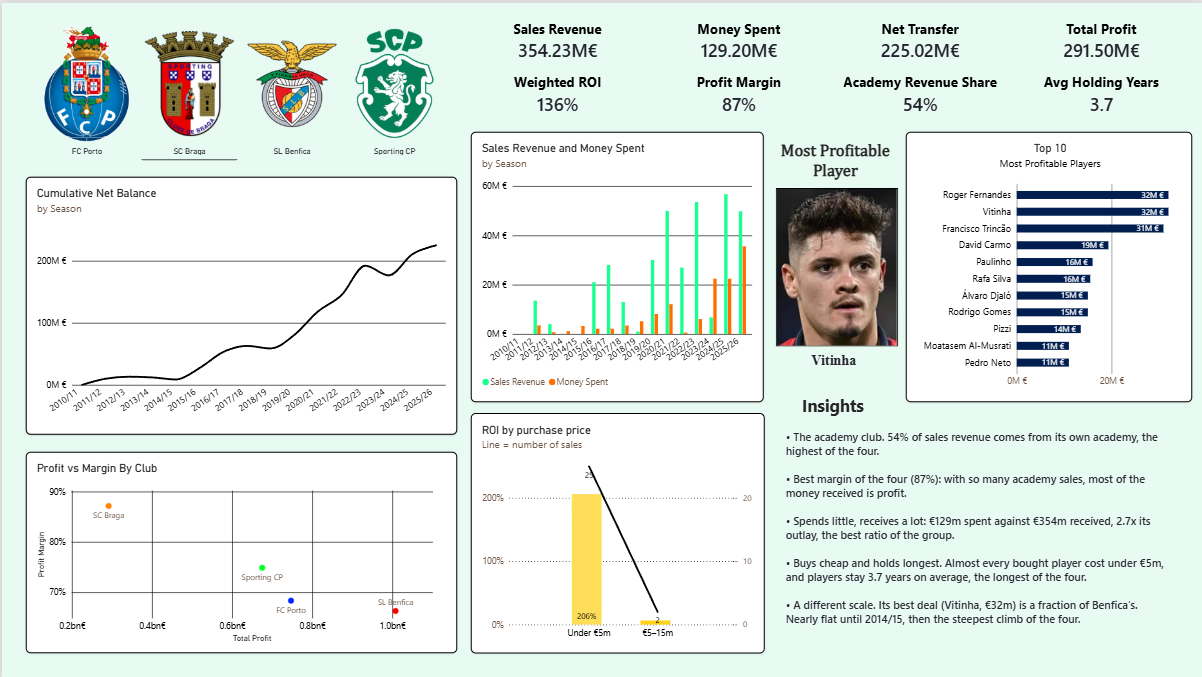

The page's visual inventory and layout, read from the dashboard file:
{"tool":"powerbi","page":{"name":"Clubs","canvas":[1920,1080],"ordinal":1},"visuals":[{"type":"advancedSlicerVisual","title":"Club","fields":{"Values":["clubs.name"]},"box":[37.5,35,690.7,216.3],"z":0},{"type":"clusteredColumnChart","fields":{"Category":["Dates.Season"],"Y":["_Measures.Sales Revenue","_Measures.Money Spent"]},"box":[750,205,468.5,433.2],"z":1000},{"type":"lineChart","fields":{"Category":["Dates.Season"],"Y":["_Measures.Cumulative Net Balance"]},"box":[37.5,277.5,690,412.5],"z":2000},{"type":"cardVisual","fields":{"Data":["_Measures.Sales Revenue","_Measures.Money Spent","_Measures.Net Transfer Balance","_Measures.Total Profit","_Measures.Weighted ROI","_Measures.Profit Margin","_Measures.Academy Revenue Share","_Measures.Avg Holding Years"]},"box":[748.6,22.9,1154.3,165.7],"z":3000},{"type":"scatterChart","title":"Profit vs Margin By Club","fields":{"Category":["clubs.name"],"Series":["clubs.name"],"X":["_Measures.Total Profit"],"Y":["_Measures.Profit Margin"]},"box":[37.5,717.5,690,322.5],"z":4000},{"type":"lineClusteredColumnComboChart","title":"ROI by purchase price","fields":{"Category":["transfers.buy_bracket"],"Y":["_Measures.Weighted ROI"],"Y2":["_Measures.Sales Count"]},"box":[750,655,470,385],"z":5000},{"type":"clusteredBarChart","title":"Top 10","fields":{"Category":["players.player_label"],"Y":["_Measures.Total Profit"]},"box":[1445,205,458.8,432.5],"z":6000},{"type":"image","box":[1238.3,295.8,195.8,253.3],"z":7000},{"type":"textbox","box":[1232.7,222.7,202.7,64.5],"z":8000},{"type":"cardVisual","fields":{"Data":["_Measures.Top Player Name"]},"box":[1230.9,532.7,202.5,80],"z":9000},{"type":"cardVisual","fields":{"Data":["_Measures.Club Comment"]},"box":[1238.3,595,650,485],"z":10000},{"type":"textbox","box":[1280,626.7,568.3,75],"z":11000}]}

Visuals, with their boxes in screenshot pixels (x1, y1, x2, y2), scaled from the page's 1920x1080 canvas onto the 1202x677 screenshot:
"Club" advancedSlicerVisual: 23/22/456/158
clusteredColumnChart - Dates.Season x _Measures.Sales Revenue: 470/129/763/400
lineChart - Dates.Season x _Measures.Cumulative Net Balance: 23/174/455/433
cardVisual - _Measures.Sales Revenue x _Measures.Money Spent: 469/14/1191/118
"Profit vs Margin By Club" scatterChart: 23/450/455/652
"ROI by purchase price" lineClusteredColumnComboChart: 470/411/764/652
"Top 10" clusteredBarChart: 905/129/1192/400
image: 775/185/898/344
textbox: 772/140/899/180
cardVisual - _Measures.Top Player Name: 771/334/897/384
cardVisual - _Measures.Club Comment: 775/373/1182/676
textbox: 801/393/1157/440
